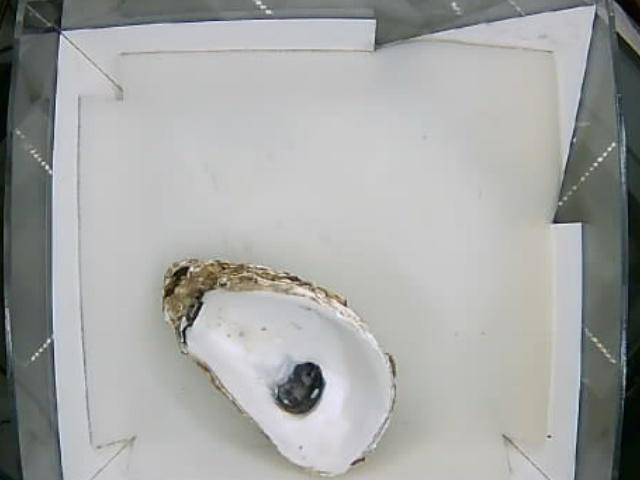Shell: (158, 257, 397, 479)
